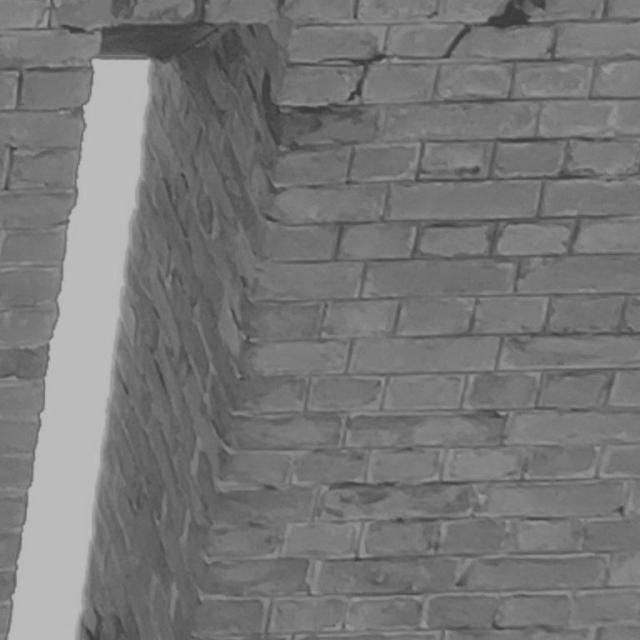crack: (318, 1, 530, 107)
